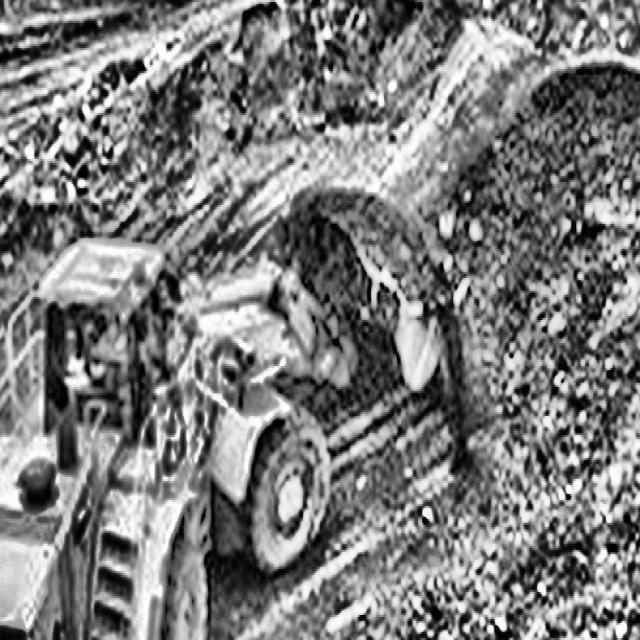buldozerpayloadergrader: (0, 159, 461, 640)
